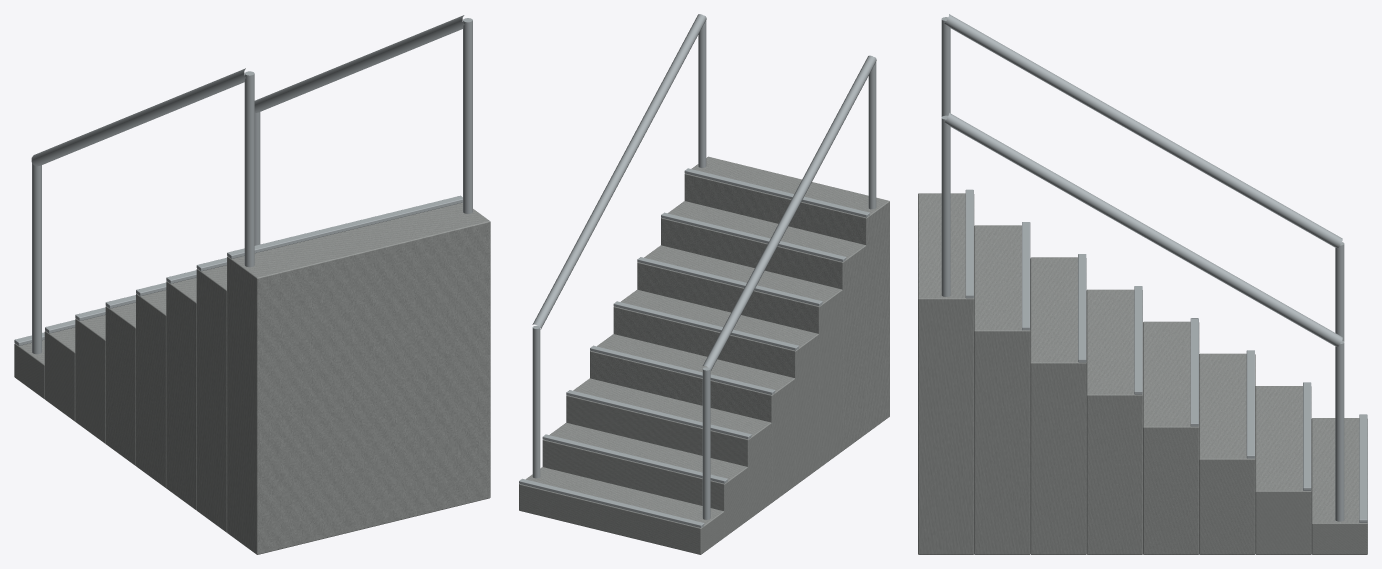
The model's file is three-d-liminal-spaces-kit-liminal-spaces-kit-stair-down-e9db1c91.glb.
The picture shows the model from 3 angles, left to right: view 1: azimuth 30°, elevation 25°; view 2: azimuth 150°, elevation 25°; view 3: azimuth 270°, elevation 25°; orthographic projection. The views are drawn at different scales.
Parts seen in each view (by area): view 1: stair-down; view 2: stair-down; view 3: stair-down.
Part boxes in pixels (x1,y1,x2,y2): stair-down: (14, 15, 490, 554); stair-down: (519, 14, 889, 554); stair-down: (918, 14, 1367, 554).
Bounding box in the file's own units: 1.2 × 2.32 × 2.16.
2 materials, 1 textured.
